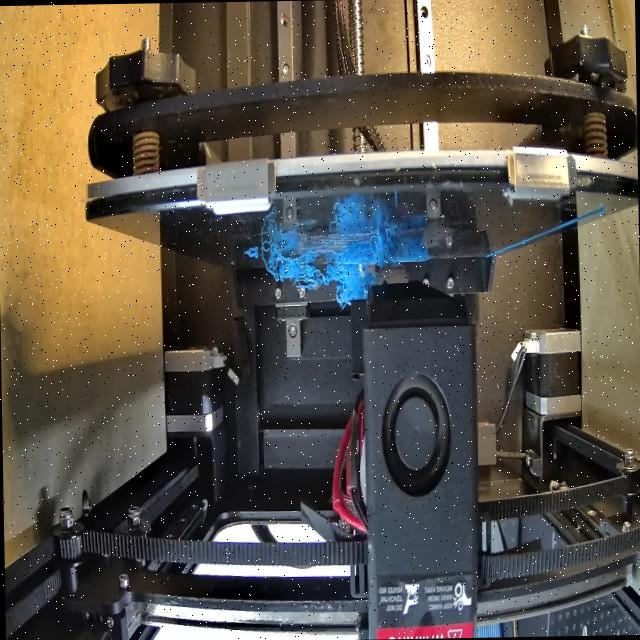spaghetti: (260, 244, 360, 304), (365, 220, 402, 275)
